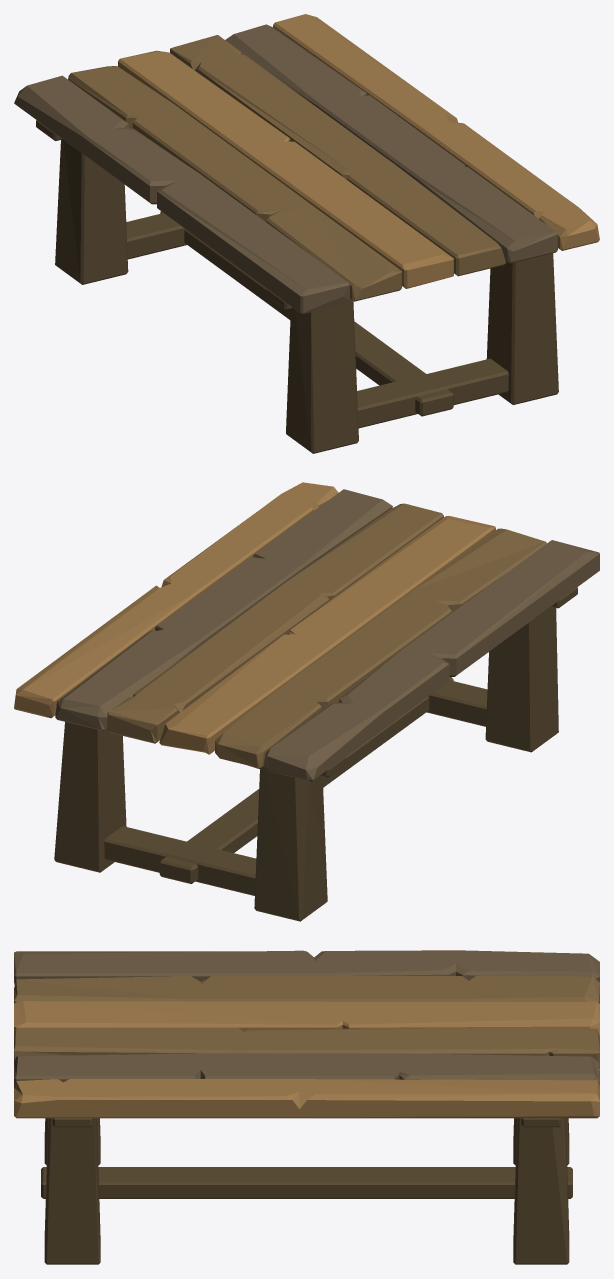
The model's file is Broken_Table.glb.
3 views of the same model, one above another, from view 1: azimuth 30°, elevation 25°; view 2: azimuth 150°, elevation 25°; view 3: azimuth 270°, elevation 25° (orthographic).
Visible parts, largest first — view 1: world; view 2: world; view 3: world.
Part boxes in pixels (x1,y1,x2,y2): world: (14, 14, 599, 453); world: (14, 482, 599, 921); world: (14, 950, 599, 1264).
Bounding box in the file's own units: 300 × 171 × 500.
